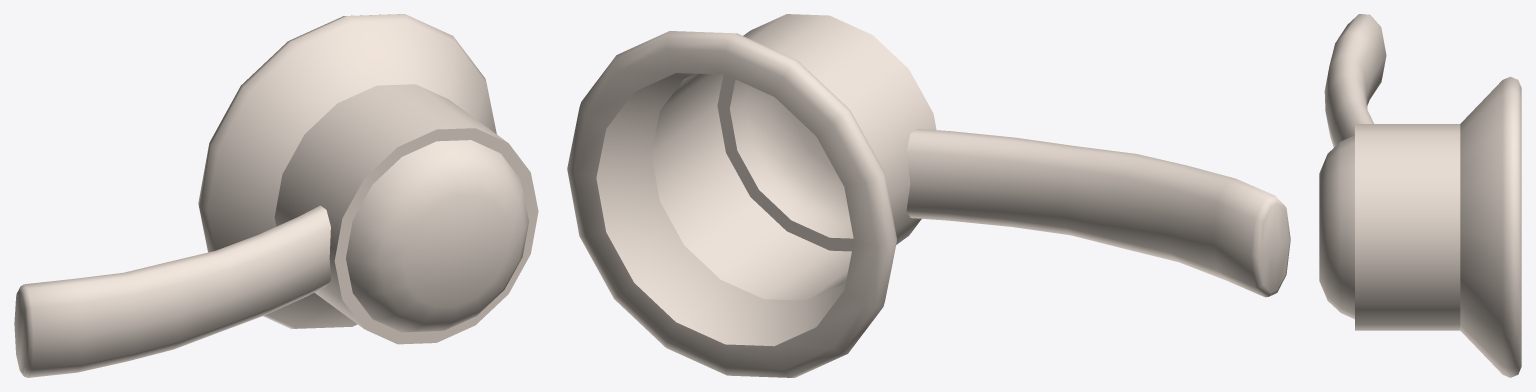
Rendered from Knob2MeshSinkFaucetKnobR_3_2.obj.
3 views of the same model, side by side, from view 1: azimuth 30°, elevation 25°; view 2: azimuth 150°, elevation 25°; view 3: azimuth 270°, elevation 25° (orthographic). The views are drawn at different scales.
Visible parts, largest first — view 1: SinkFaucetKnobR_3; view 2: SinkFaucetKnobR_3; view 3: SinkFaucetKnobR_3.
Part boxes in pixels (x1,y1,x2,y2): SinkFaucetKnobR_3: [14, 14, 538, 377]; SinkFaucetKnobR_3: [567, 14, 1290, 377]; SinkFaucetKnobR_3: [1319, 14, 1521, 377].
Bounding box in the file's own units: 0.1698 × 0.0898 × 0.0602.
